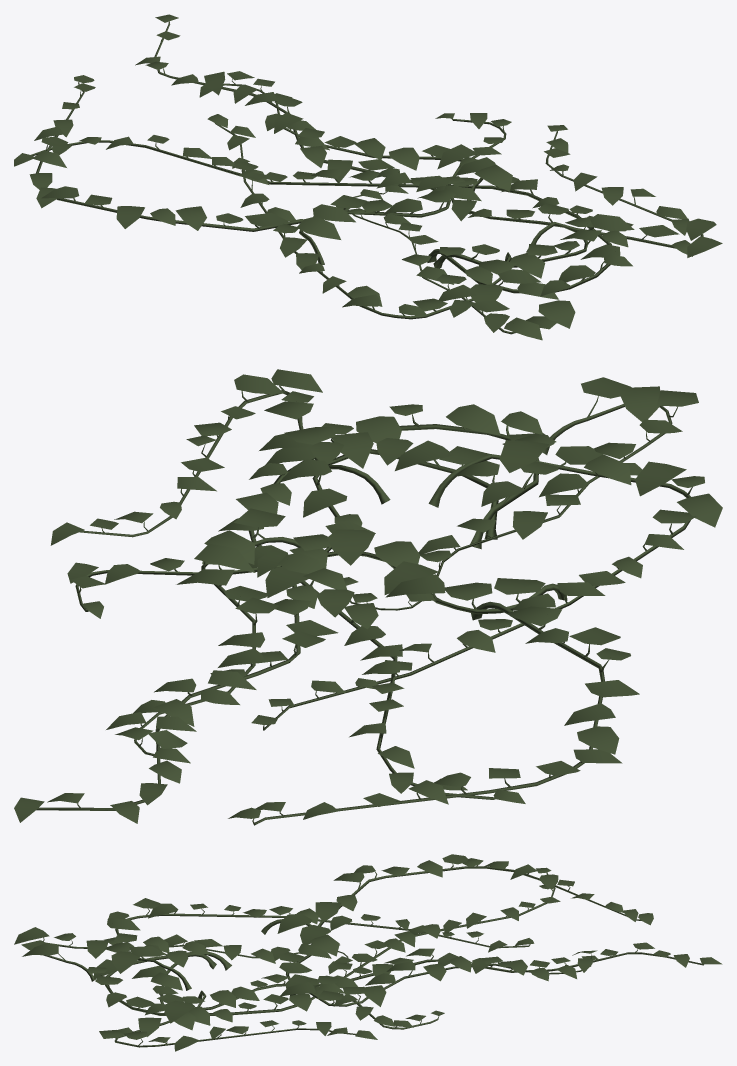
File: scene_Ivy5.fbx
3 views of the same model, one above another, from view 1: azimuth 30°, elevation 25°; view 2: azimuth 150°, elevation 25°; view 3: azimuth 270°, elevation 25° (orthographic). The views are drawn at different scales.
Visible parts, largest first — view 1: Ivy5; view 2: Ivy5; view 3: Ivy5.
Part boxes in pixels (<box>): Ivy5: <box>14,14,722,340</box>; Ivy5: <box>14,369,722,825</box>; Ivy5: <box>14,854,722,1051</box>.
Bounding box in the file's own units: 433 × 29.13 × 680.
